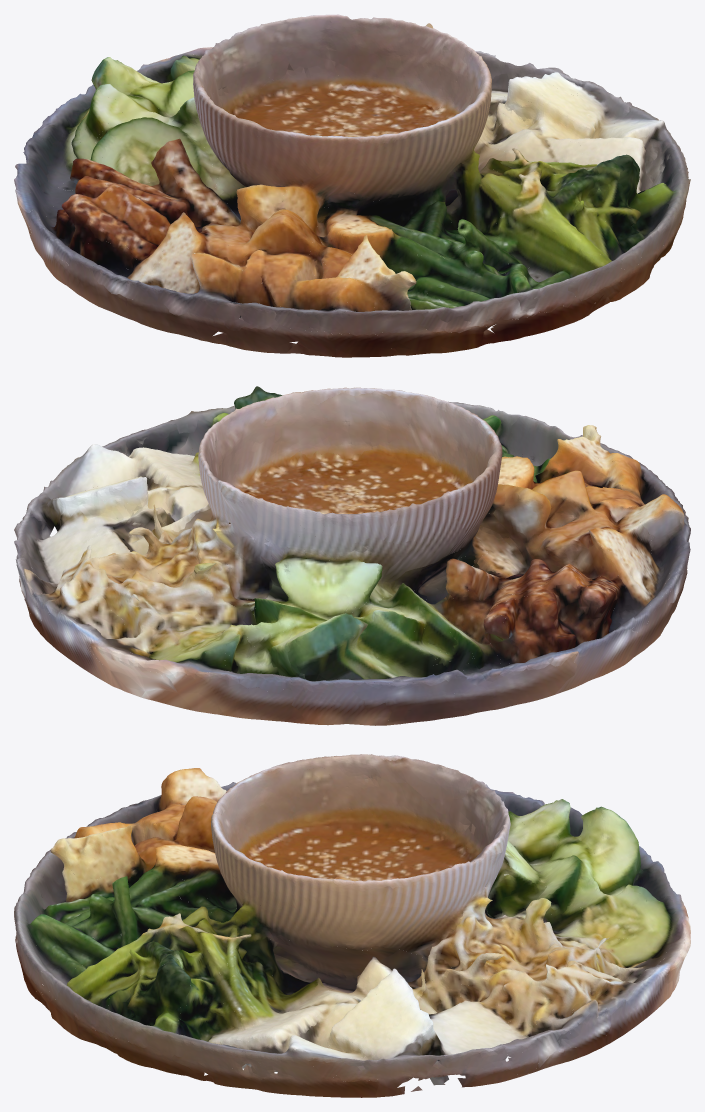
File: plate.glb
3 views of the same model, one above another, from view 1: azimuth 30°, elevation 25°; view 2: azimuth 150°, elevation 25°; view 3: azimuth 270°, elevation 25° (orthographic).
Parts seen in each view (by area): view 1: mesh_main_0 (×2); view 2: mesh_main_0 (×2); view 3: mesh_main_0 (×3).
Boxes of the visible parts, left/top/right/bottom form: mesh_main_0 (×2): left=14, top=14, right=690, bottom=357; mesh_main_0 (×2): left=14, top=386, right=690, bottom=725; mesh_main_0 (×3): left=14, top=754, right=690, bottom=1097.
Bounding box in the file's own units: 0.2672 × 0.0631 × 0.2715.
1 material, 1 textured.
